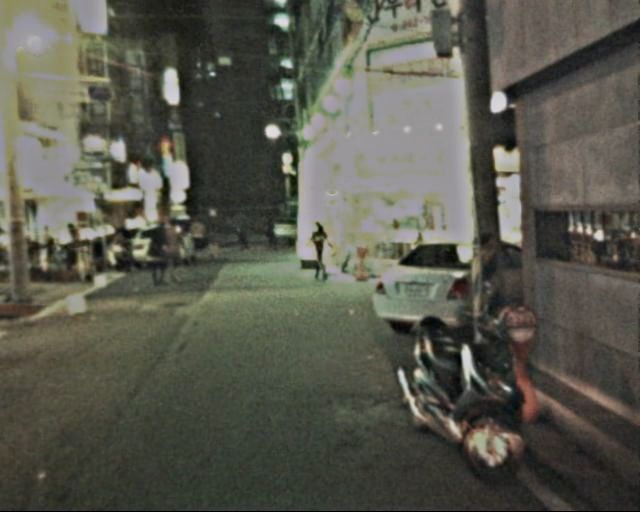person: (156, 217, 188, 284), (300, 215, 332, 280), (143, 224, 170, 287), (201, 208, 225, 257), (185, 211, 208, 261), (228, 211, 247, 254), (257, 217, 273, 251)
